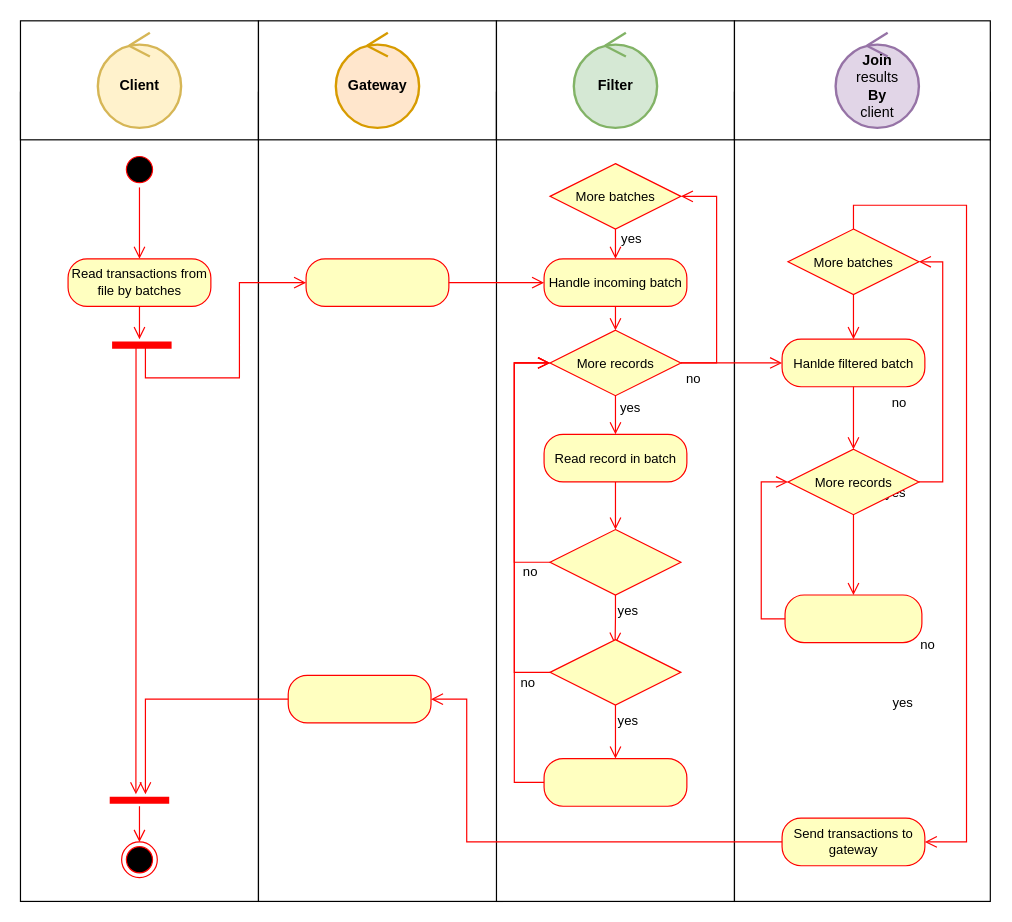
The diagram is 1012 pixels wide and 922 high, and some of its shapes have lost their labels. Here are the shapes that lost their labels. From the top down, the box of each, then its label:
(305, 258, 449, 306): Redirect transaction batch to filters
(549, 528, 681, 595): Currency == USD
(784, 594, 922, 643): Read and add formated record
(549, 638, 681, 705): Amount < $50
(287, 674, 431, 723): Redirect response to client
(543, 757, 687, 806): Add to filtered records
